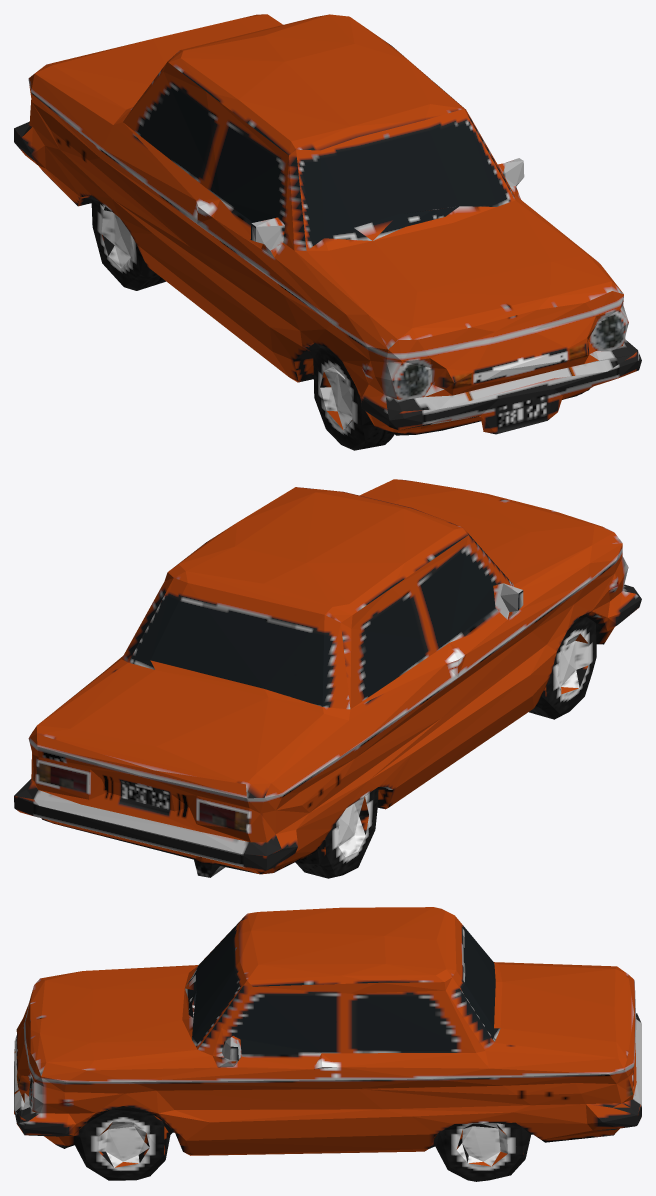
3 renders of one model, top to bottom at view 1: azimuth 30°, elevation 25°; view 2: azimuth 150°, elevation 25°; view 3: azimuth 270°, elevation 25°, orthographic. The views are drawn at different scales.
Bounding box in the file's own units: 1.5 × 1.29 × 3.75.
1 material, 1 textured.
